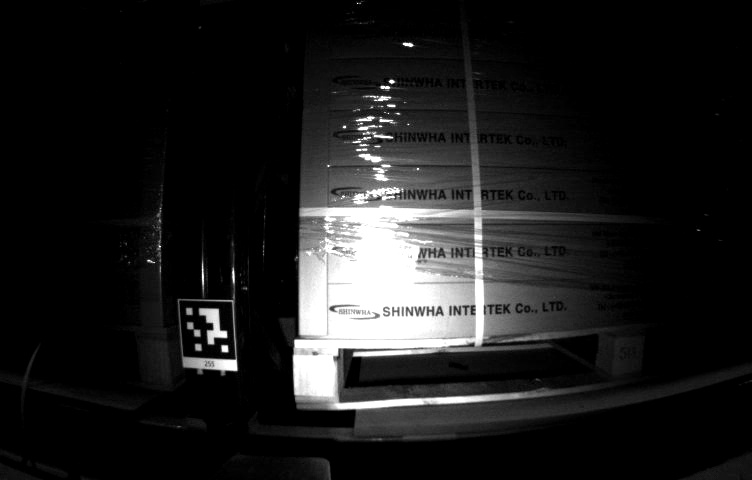True Barcode: (353, 232, 423, 295)
